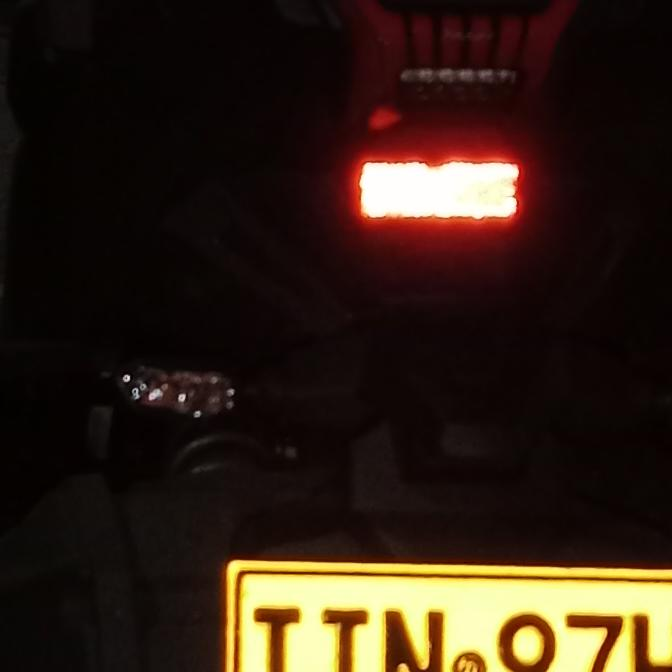plates: (216, 549, 672, 672)
